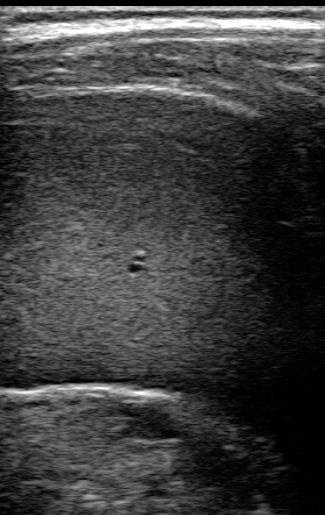irrelevant: (1, 1, 325, 38)
